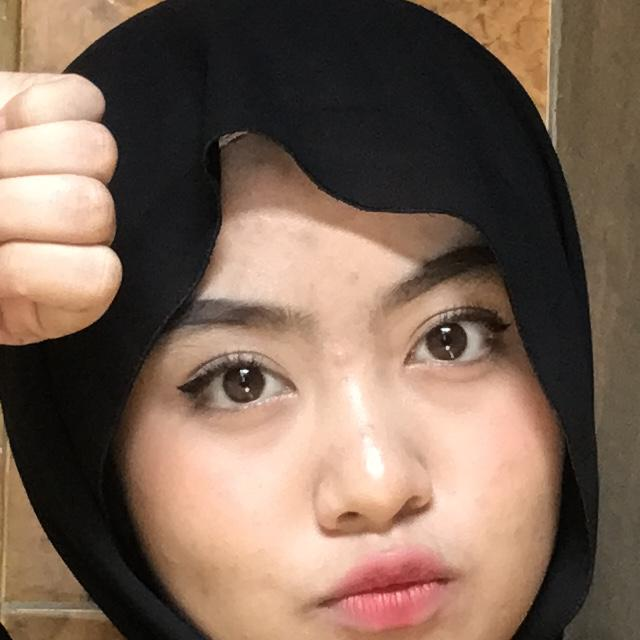sedih: (0, 16, 275, 640)
